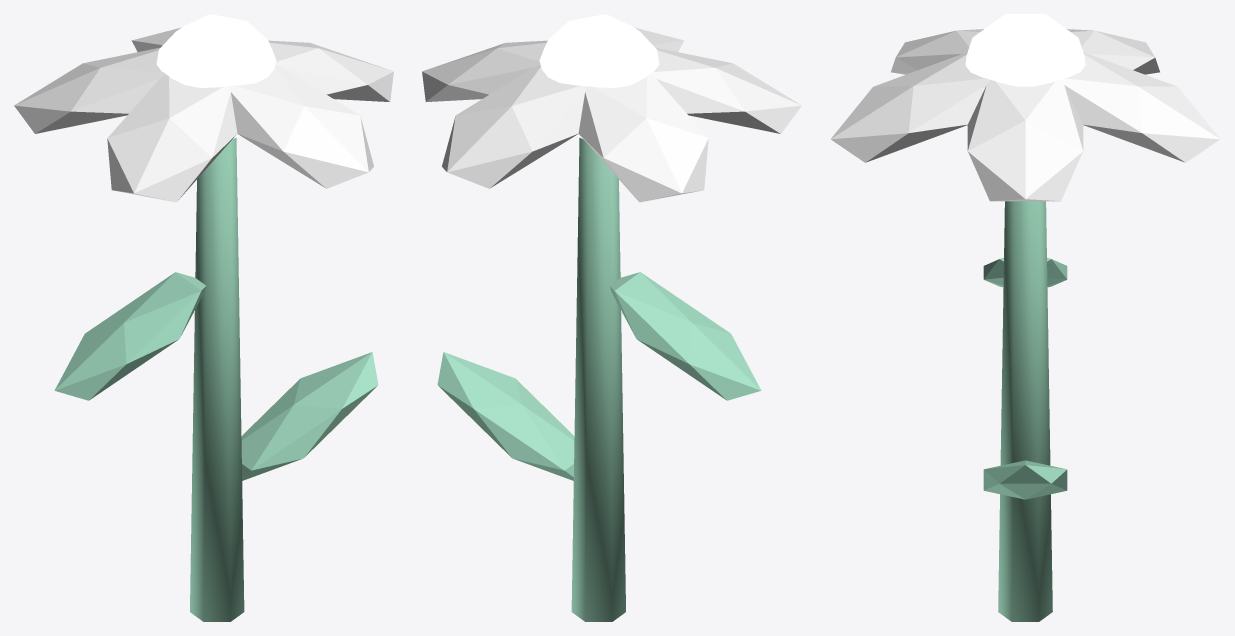
File: flower.glb
3 renders of one model, left to right at view 1: azimuth 30°, elevation 25°; view 2: azimuth 150°, elevation 25°; view 3: azimuth 270°, elevation 25°, orthographic.
Parts seen in each view (by area): view 1: Petals, Stem, Leaves, Center; view 2: Petals, Stem, Leaves, Center; view 3: Petals, Stem, Center, Leaves.
Part boxes in pixels (<box>): Petals: <box>14,27,393,202</box>; Stem: <box>190,137,244,621</box>; Leaves: <box>54,272,378,480</box>; Center: <box>156,14,276,138</box>; Petals: <box>422,27,801,202</box>; Stem: <box>571,137,625,621</box>; Leaves: <box>437,272,761,480</box>; Center: <box>539,14,659,138</box>; Petals: <box>830,29,1220,201</box>; Stem: <box>998,201,1052,621</box>; Center: <box>965,14,1085,86</box>; Leaves: <box>983,258,1067,499</box>.
Bounding box in the file's own units: 0.7195 × 1.2 × 0.7129.
